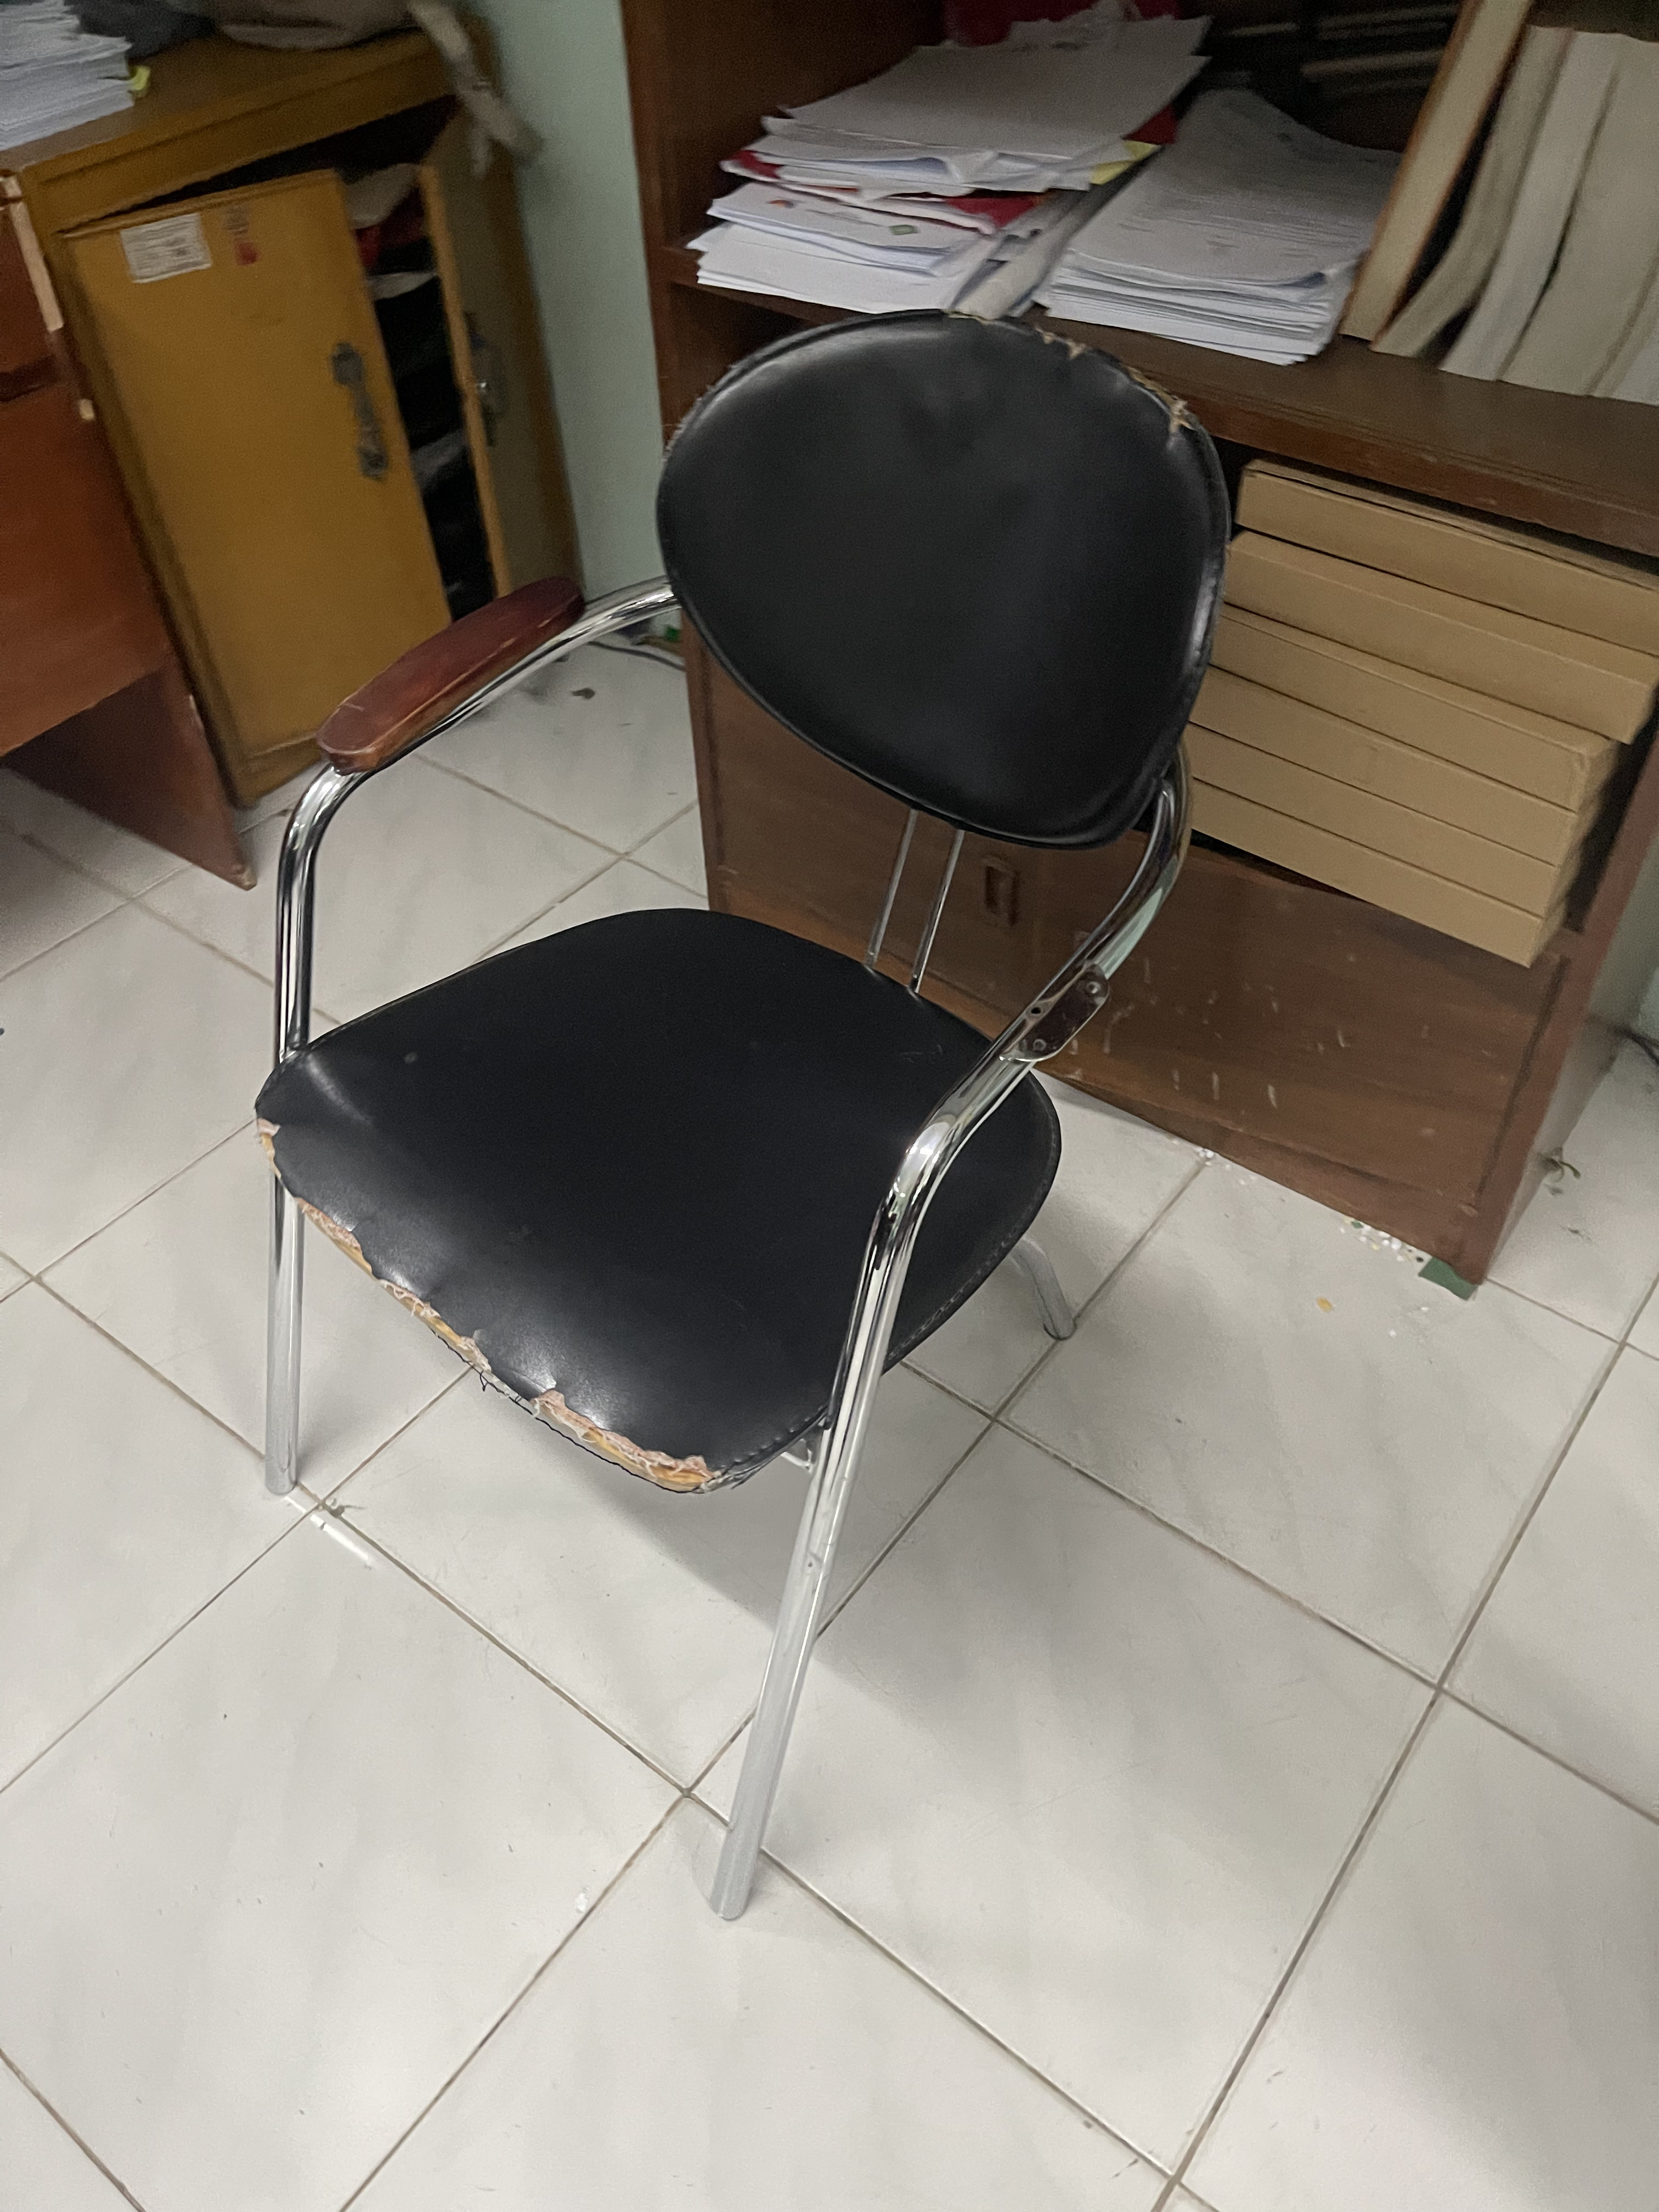chair1: (260, 307, 1239, 1914)
